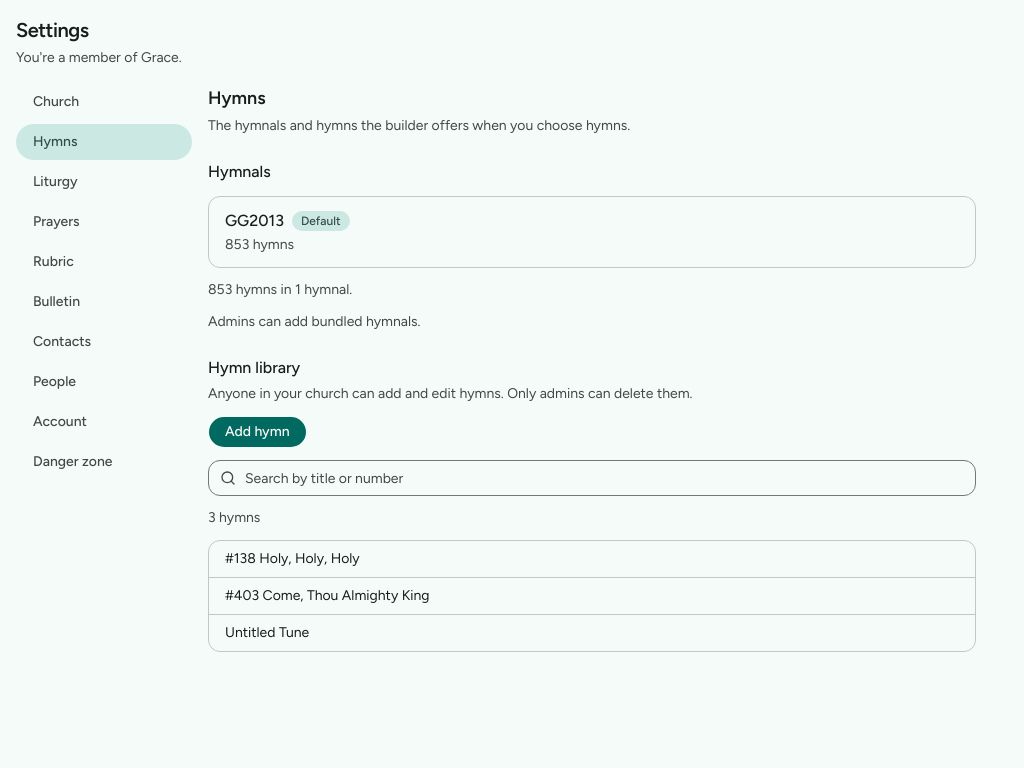
Test case: Settings → Hymns, the Hymn library (slice 6a-2) › searches 300 ms after typing, from the first page, and offers Clear search when nothing matches
Expected: the text "3 hymns" is shown, [208, 509, 260, 526]
Type "holy" into the search field labelled "Search by title or number" at (592,478), box [208, 460, 976, 496]
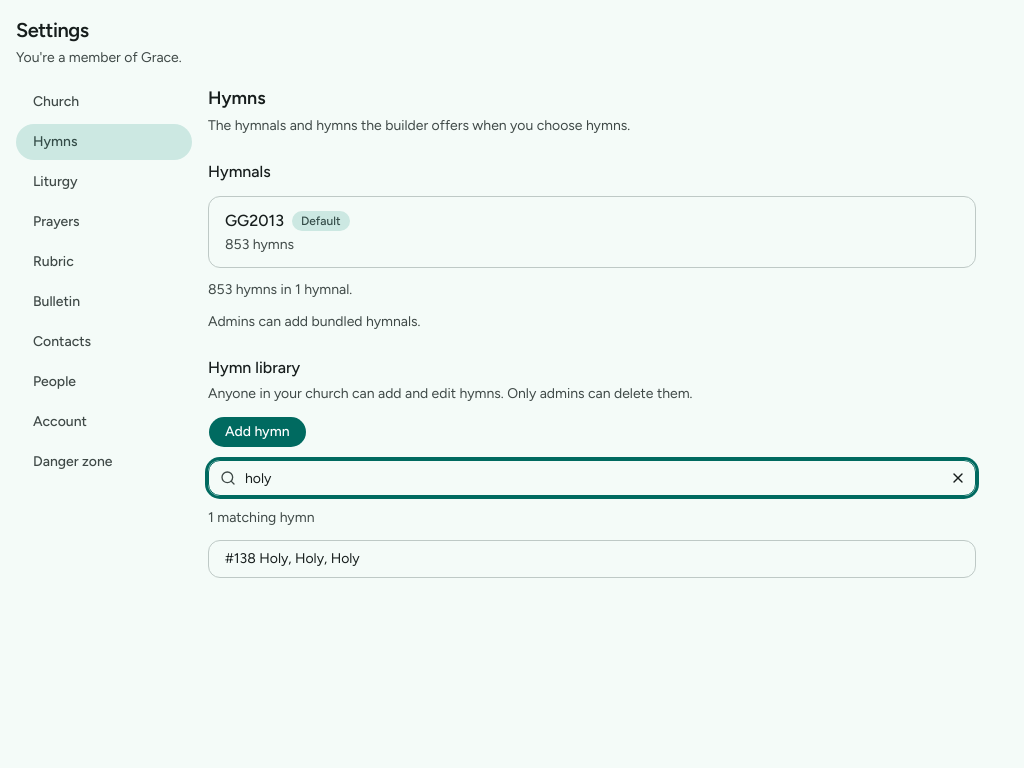
Expected: the text "1 matching hymn" is shown, [208, 509, 314, 526]
Replace the text in the search field named "Search by title or number" with "zzz" at (592,478), box [208, 460, 976, 496]
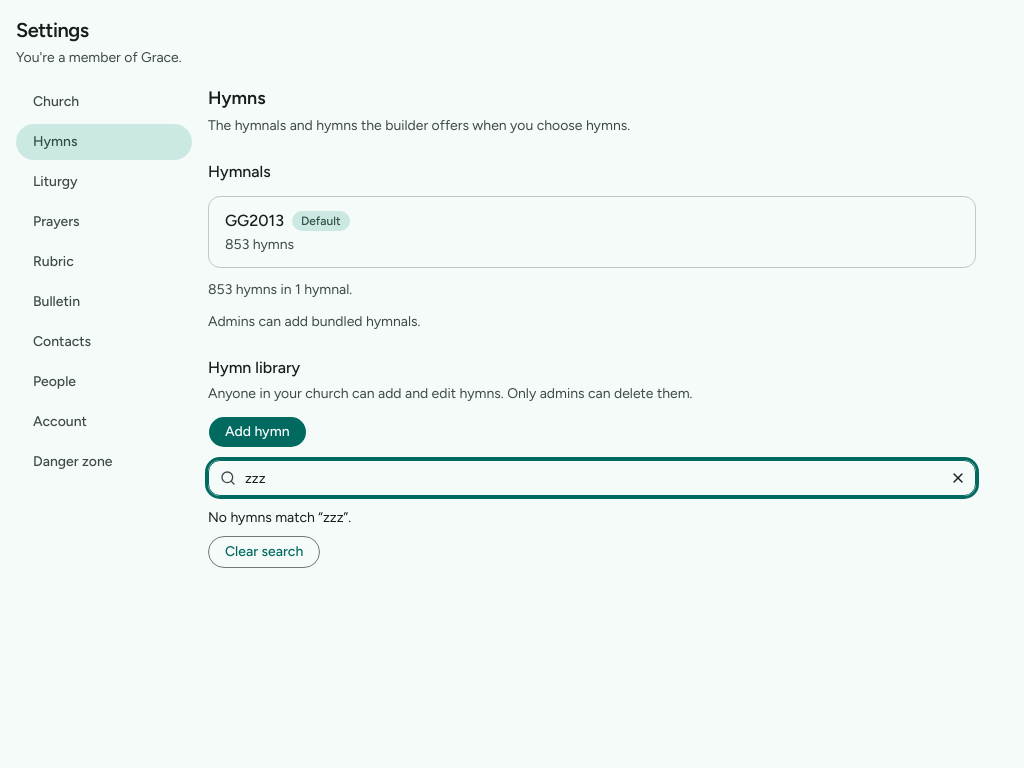
Expected: the text "No hymns match “zzz”." is shown, [208, 508, 351, 528]
Click the button "Clear search" at (264,552), box [208, 536, 320, 568]
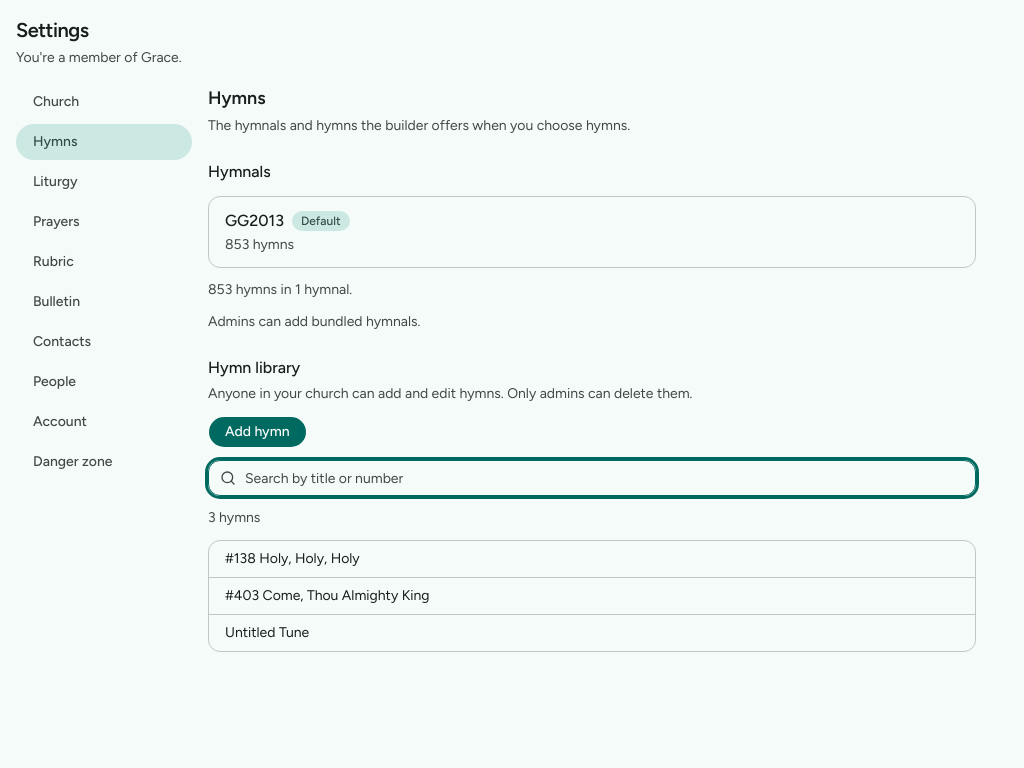
Expected: the text "3 hymns" is shown, [208, 509, 260, 526]
